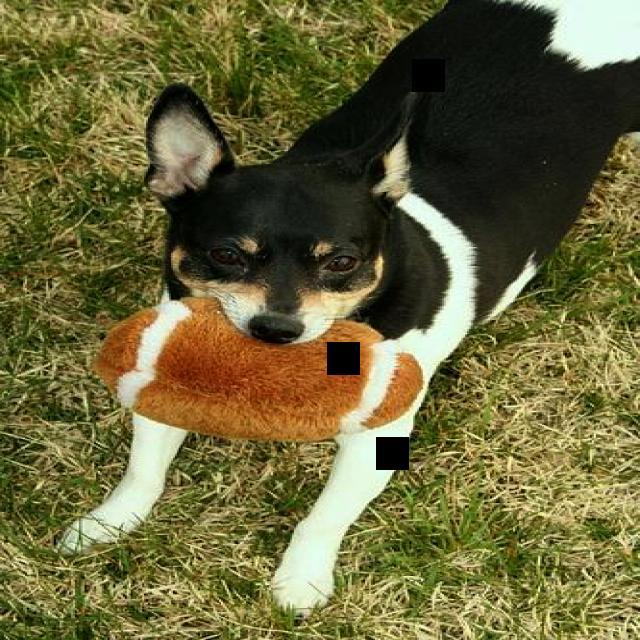adult_dog: (48, 2, 640, 614)
